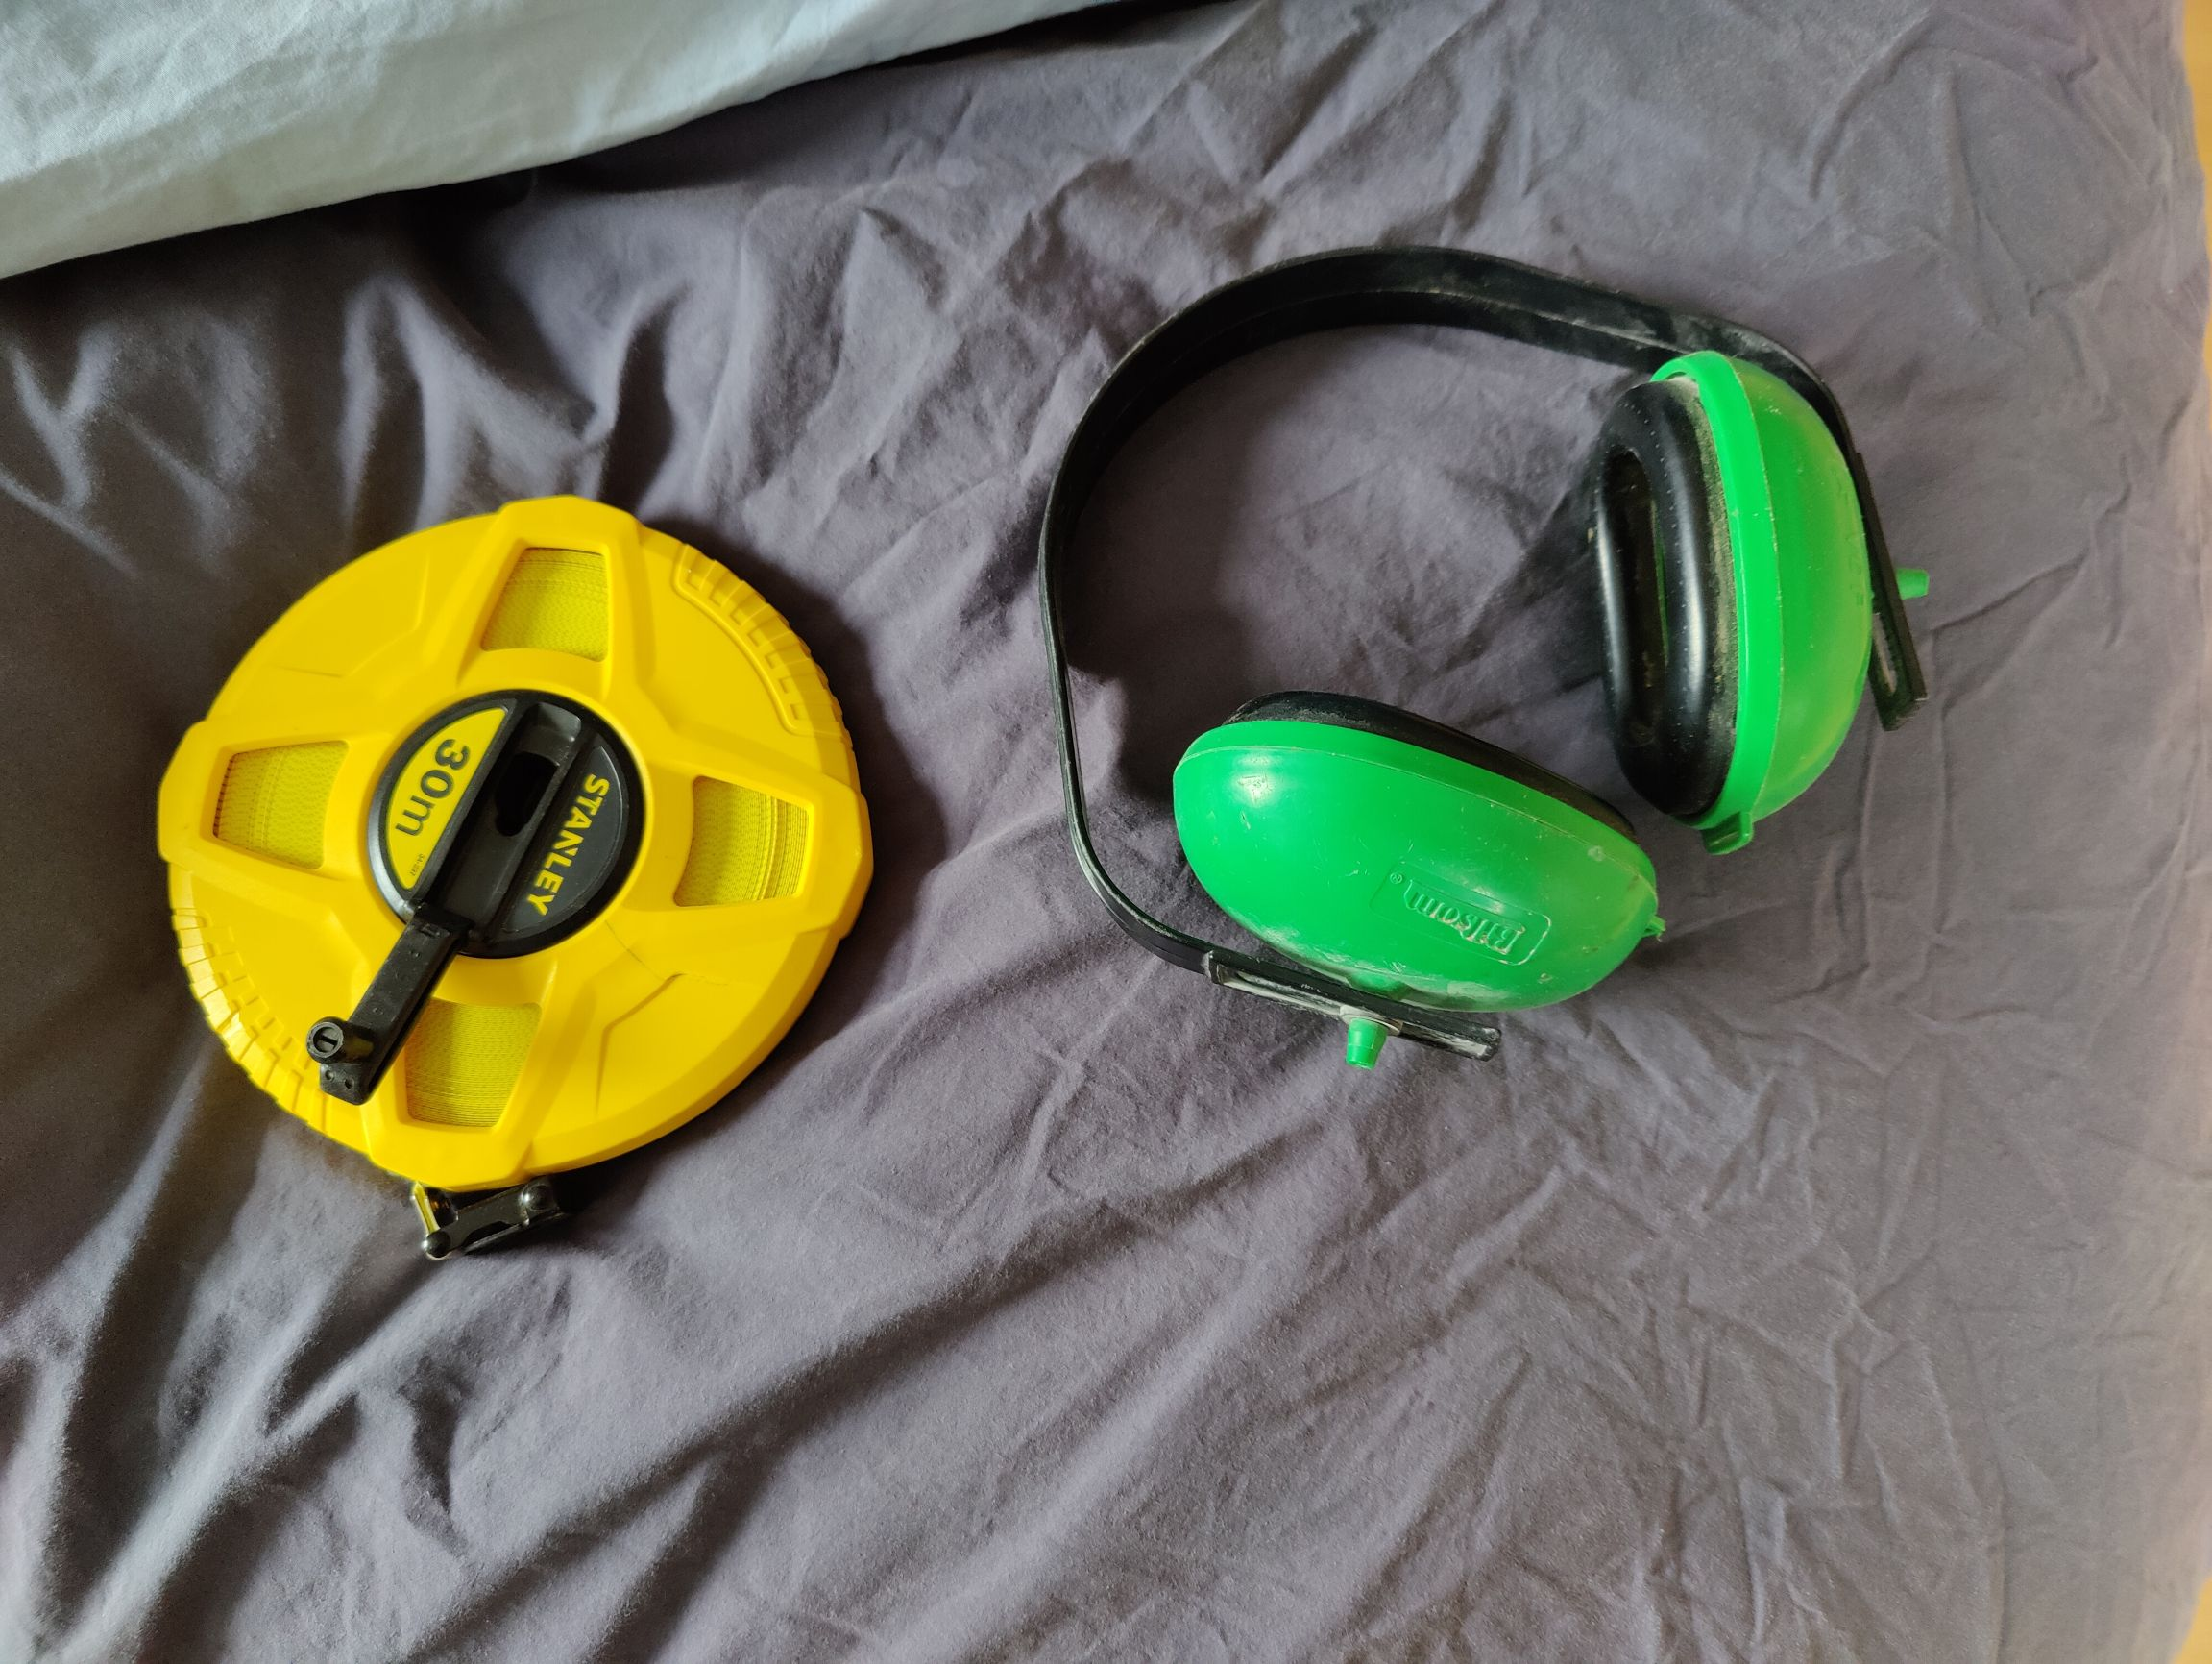headphones: (1031, 245, 1939, 1061)
tapemeasure: (149, 489, 886, 1232)
